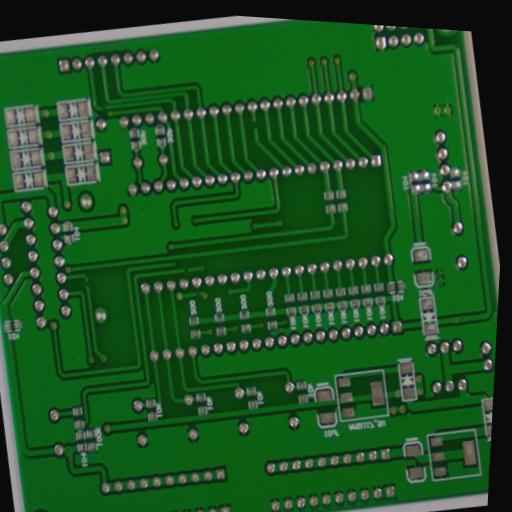open_circuit: (248, 115, 261, 132), (82, 277, 92, 290), (98, 102, 108, 114), (181, 264, 190, 275), (193, 288, 202, 298)
